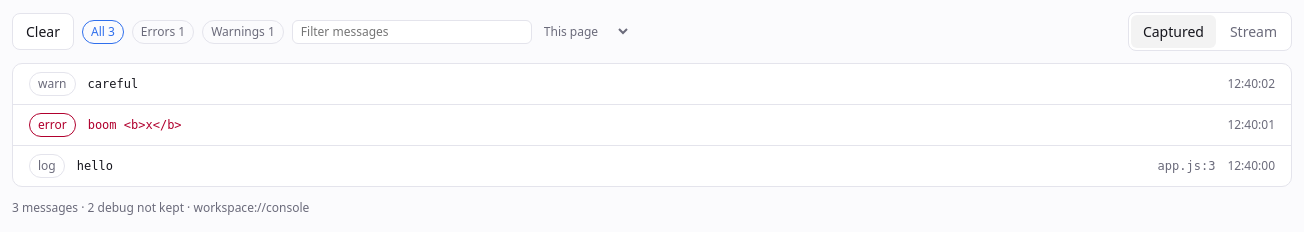
Test: Clear hides what was there and says nothing was sent
This screenshot has width=1304, height=232.
Click the button "Clear" at [43, 32], box [12,13,74,50]
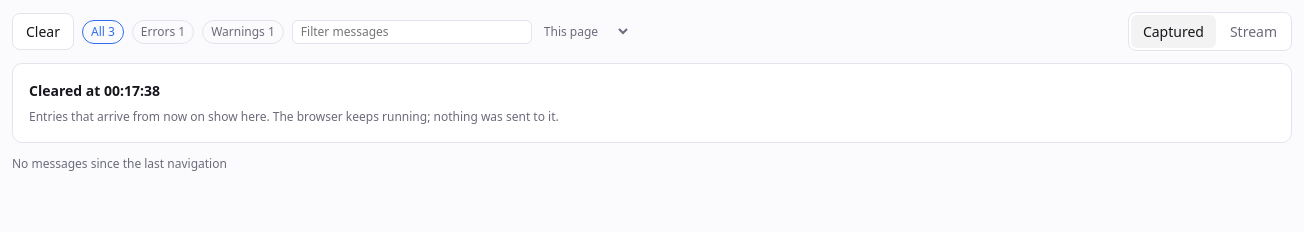
Expected: the text "Cleared at 00:17:38" is shown, [29,81,160,100]
Expected: the text "Entries that arrive from now on show here. The browser keeps running; nothing was sent to it." is shown, [29,108,559,125]
